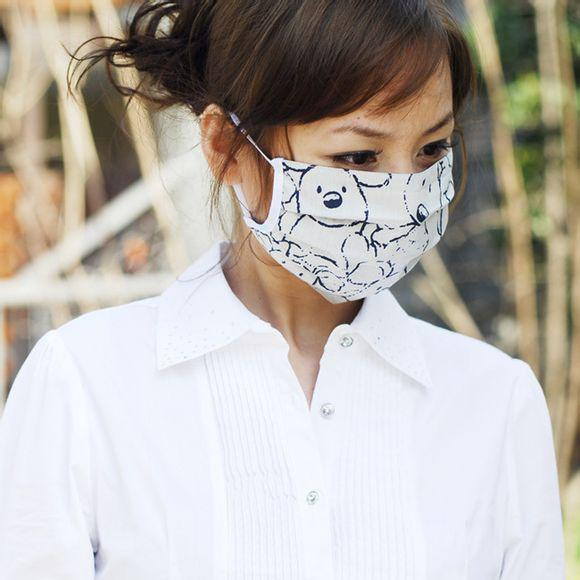OK: (252, 81, 460, 289)
